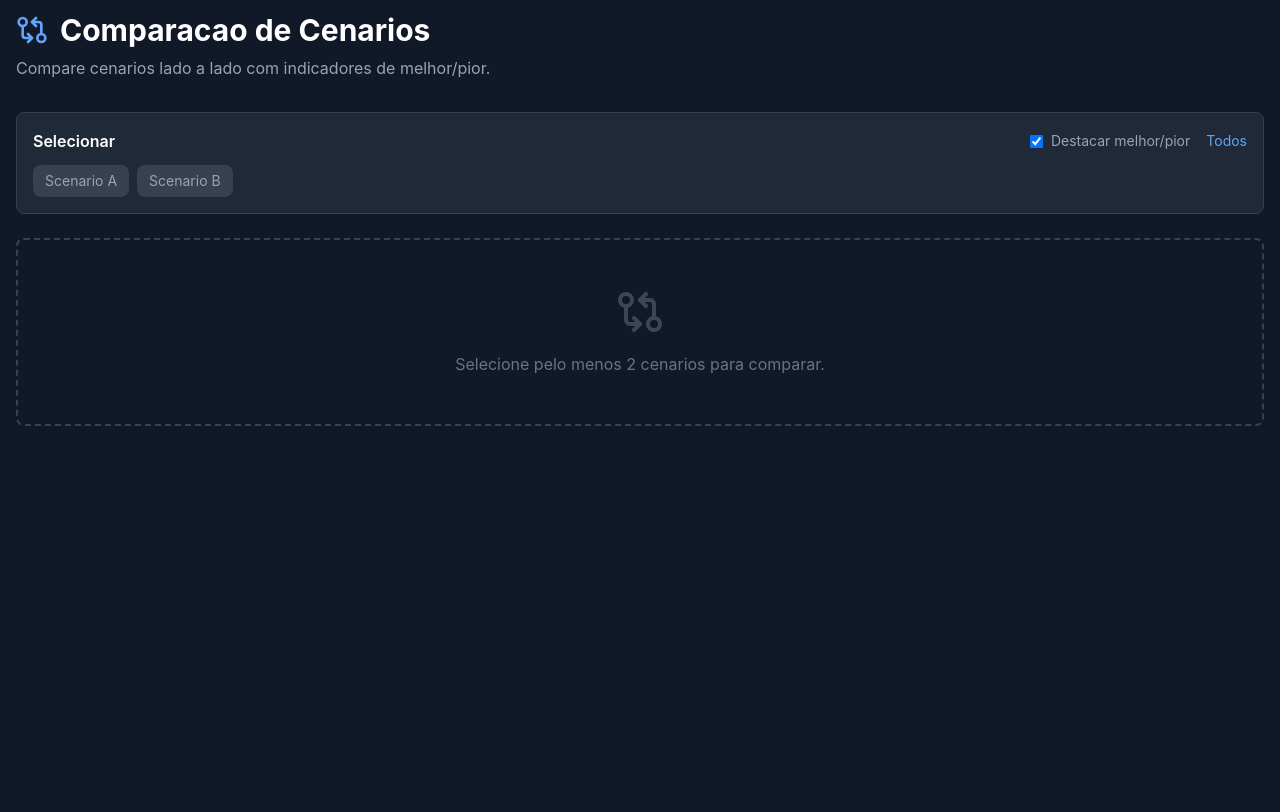
Test: Comparison › should deselect scenarios
Click the button "Scenario A". click: (81,181)
box: [33,165,129,197]
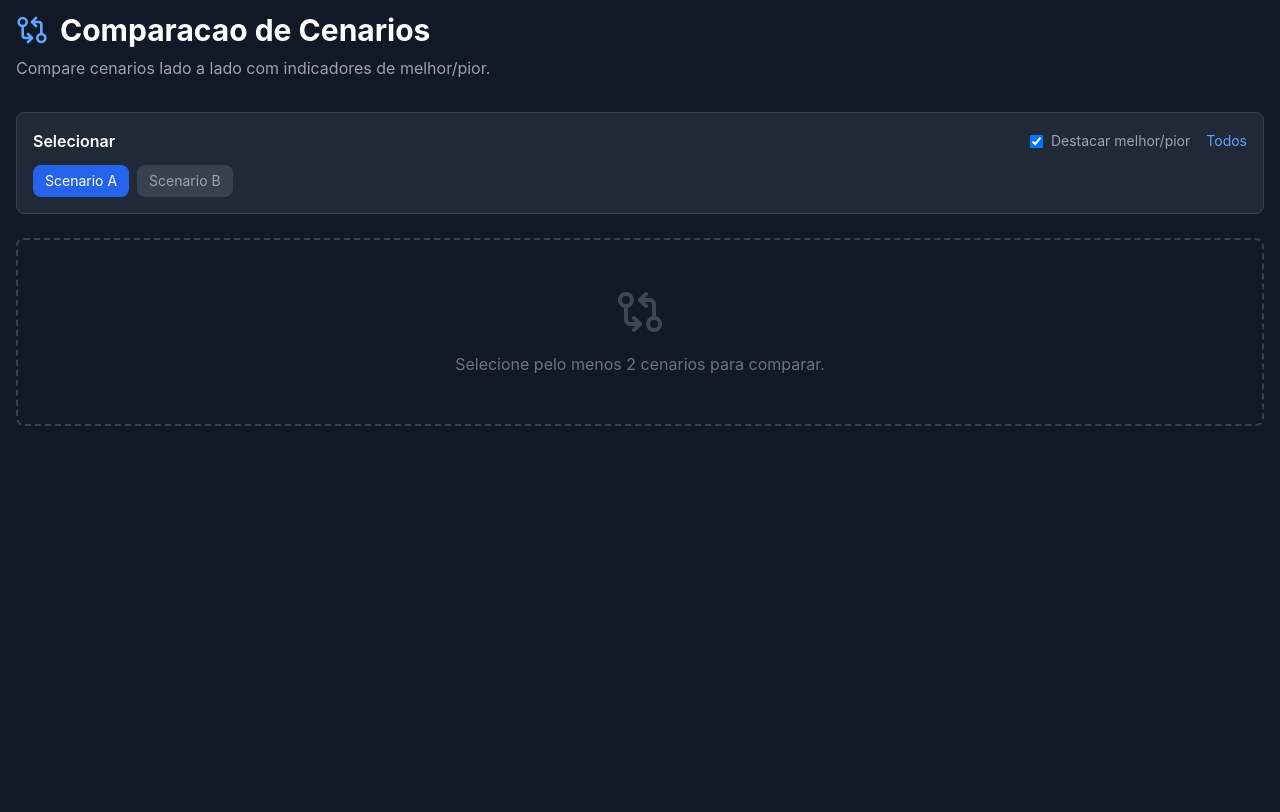
Click the button "Scenario B". click: (185,181)
box: [137,165,233,197]
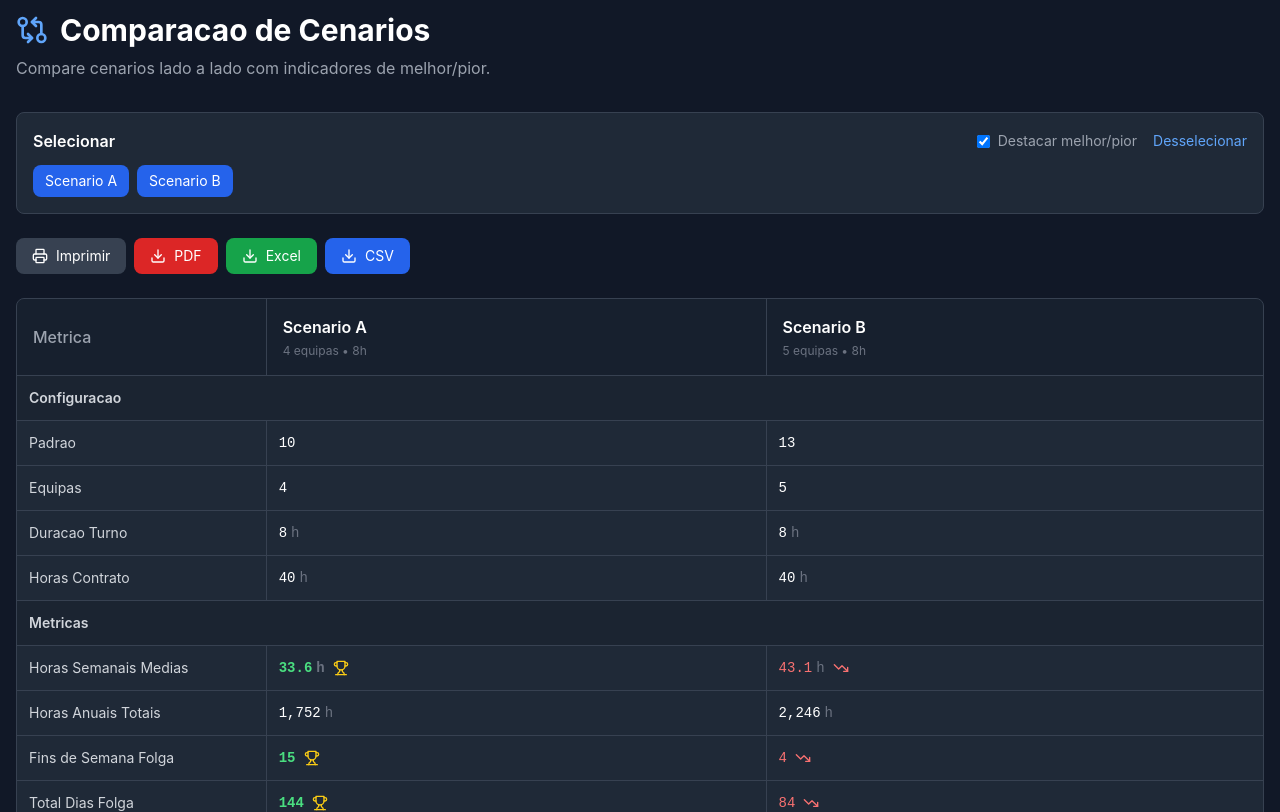
Click the button "Scenario A". click: (81,181)
box: [33,165,129,197]
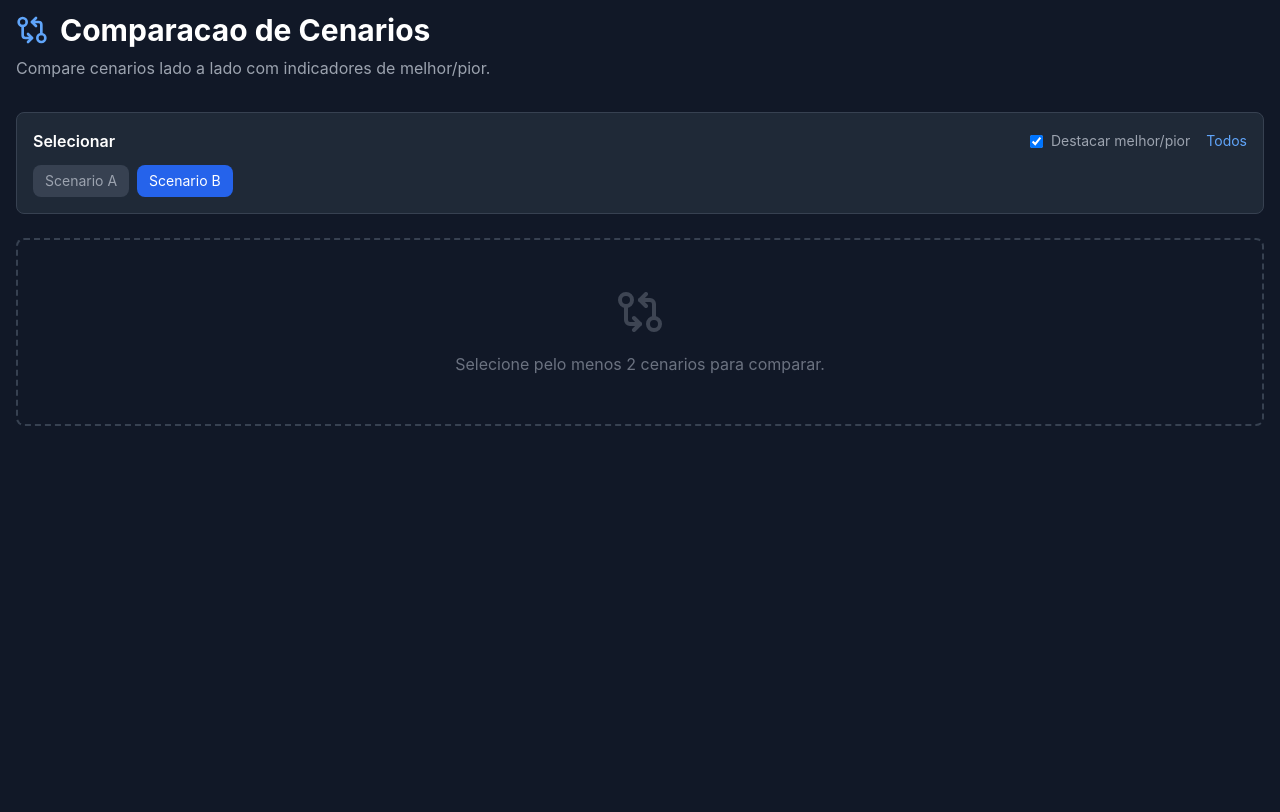
Result: no column headings "Metrica" are shown
